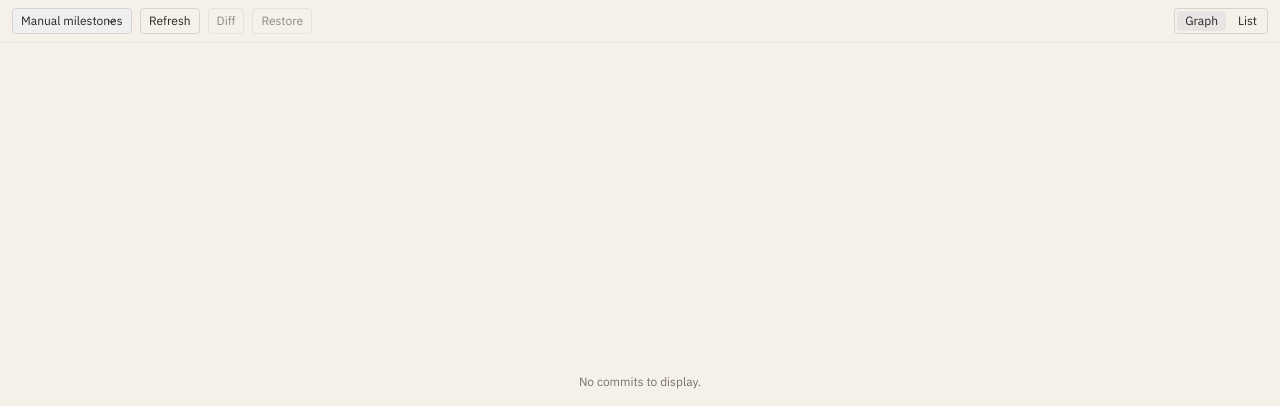
Test: GitHistoryList › renders empty state when logCache[branch] === []
The width and height of the screenshot is (1280, 406).
Click the button with test id "git-history-view-list": (1248, 21) [1230,11,1265,31]
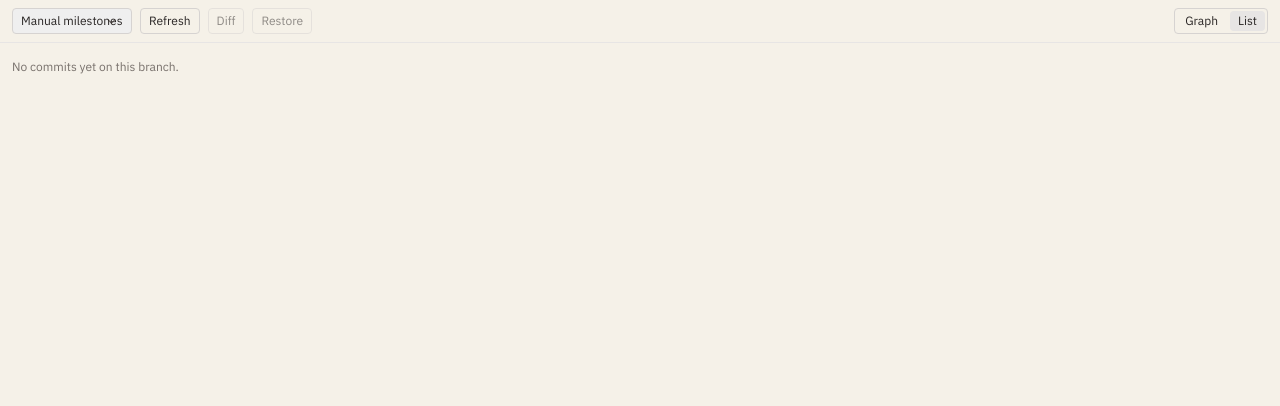
Now the text "No commits yet on this branch." is shown, box [12,59,179,74]
